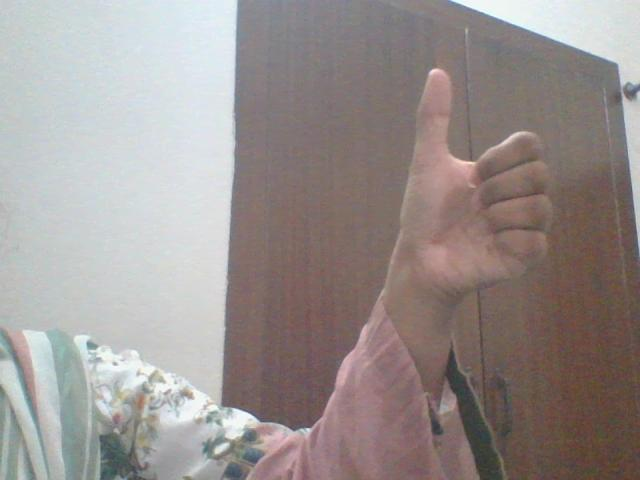thumbs-up: (396, 69, 559, 304)
